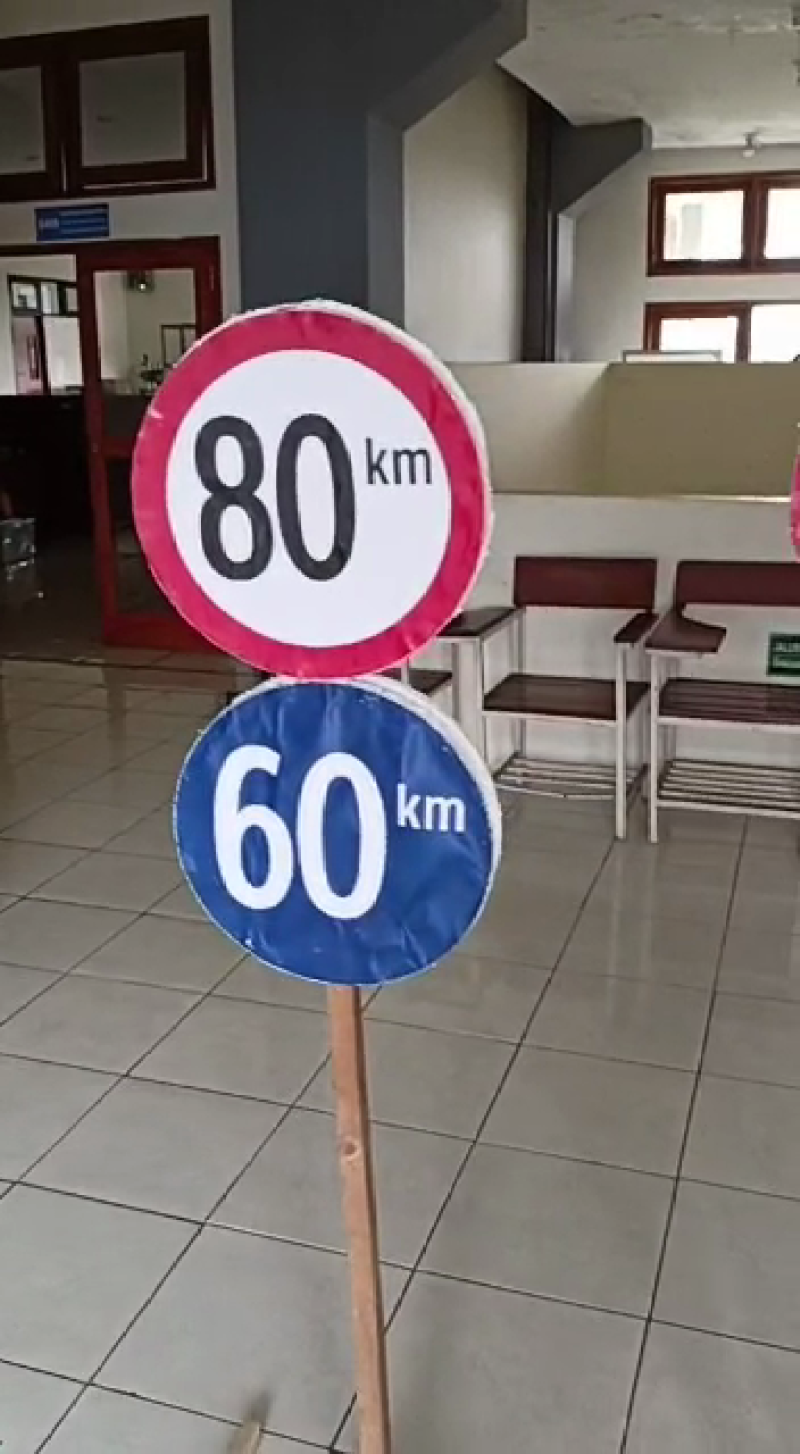batas maksimal 80kmperjam minimal 60kmperjam: (110, 283, 529, 1009)
